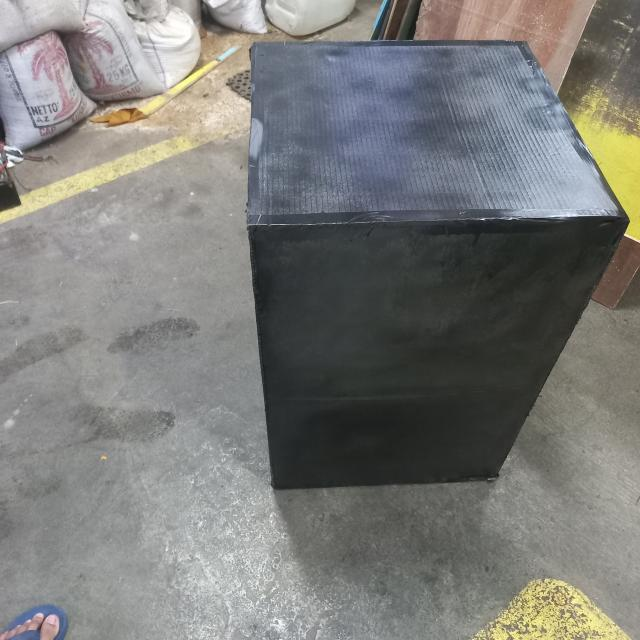obstacle: (245, 34, 630, 496)
